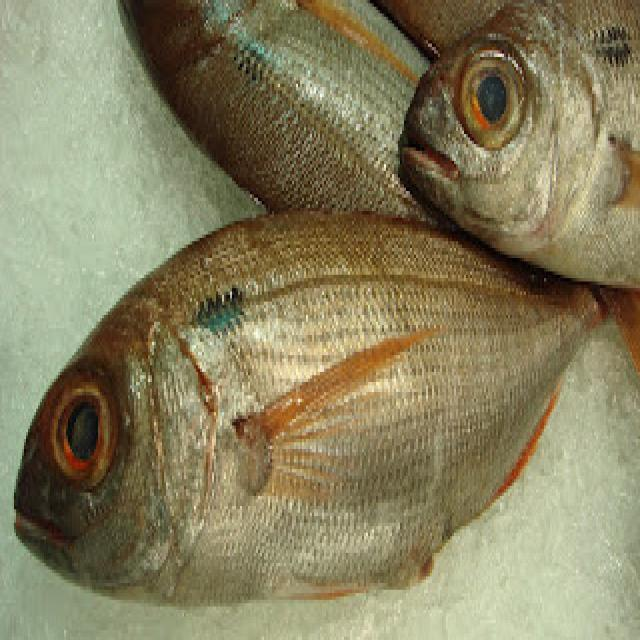Healthy Fish: (3, 0, 640, 605)
